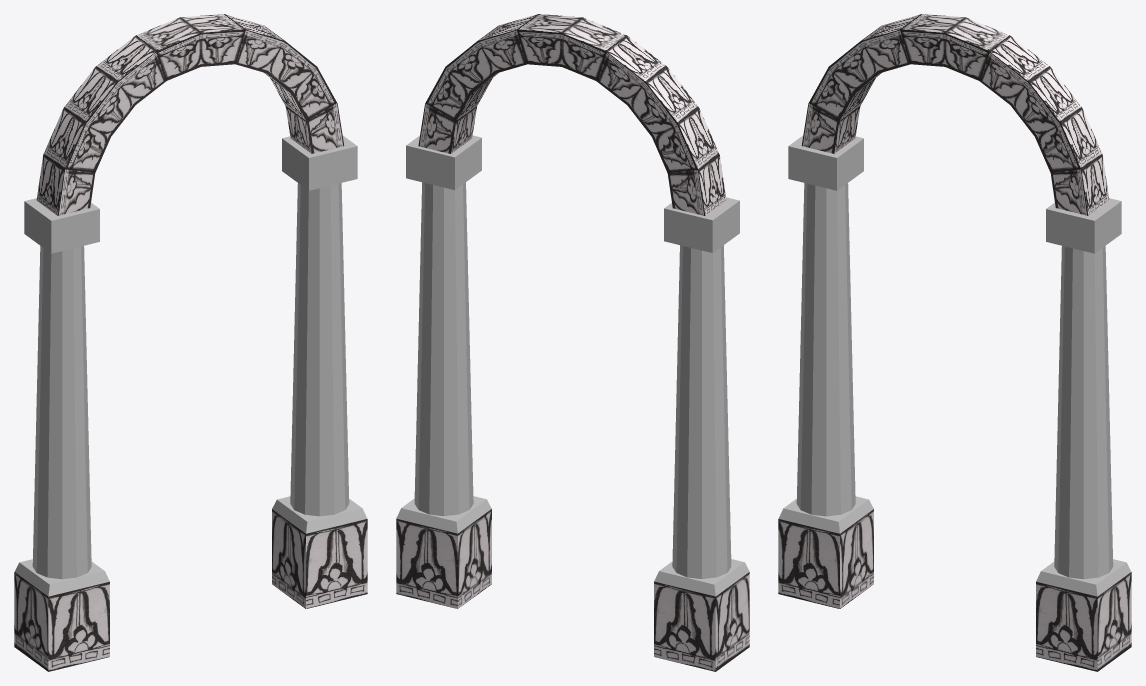
Rendered from Arch.fbx.
3 renders of one model, left to right at view 1: azimuth 30°, elevation 25°; view 2: azimuth 150°, elevation 25°; view 3: azimuth 330°, elevation 25°, orthographic.
Parts seen in each view (by area): view 1: Arch; view 2: Arch; view 3: Arch.
Part boxes in pixels (left/top/right/bottom): Arch: left=14, top=14, right=367, bottom=671; Arch: left=396, top=14, right=749, bottom=671; Arch: left=778, top=14, right=1131, bottom=671.
Bounding box in the file's own units: 5.93 × 10.57 × 1.09.
